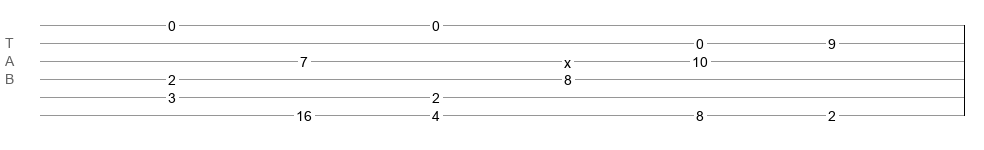0: (168, 18, 176, 28), (432, 18, 440, 28), (696, 36, 704, 46)
10: (692, 54, 708, 64)
16: (296, 108, 312, 118)
2: (168, 72, 176, 82), (432, 90, 440, 100), (828, 108, 836, 118)
3: (168, 90, 176, 100)
4: (432, 108, 440, 118)
7: (300, 54, 308, 64)
8: (564, 72, 572, 82), (696, 108, 704, 118)
9: (828, 36, 836, 46)
x: (564, 55, 571, 63)
